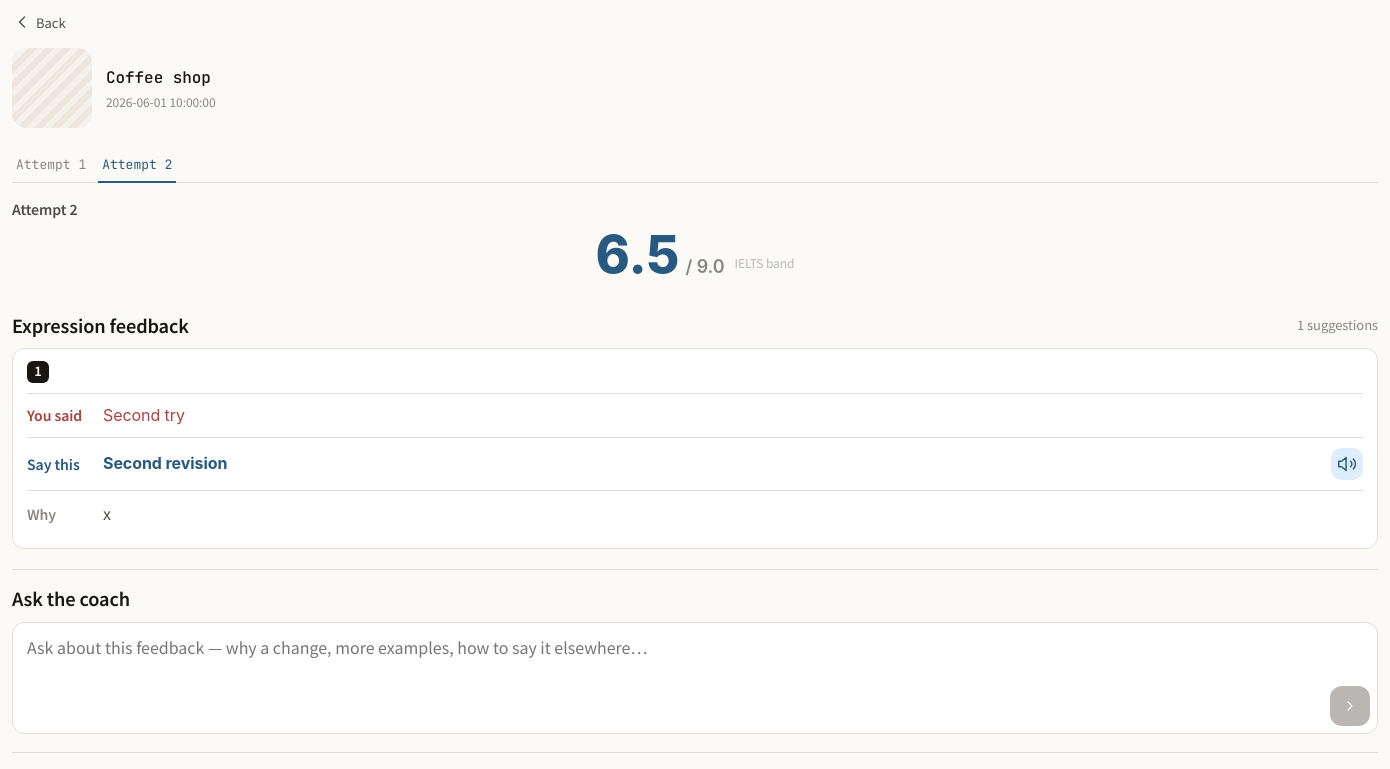
Test: SessionDetailPage › shows attempt tabs and switches between attempts
Expected: the button "Attempt 2" is shown, left=98, top=148, right=176, bottom=183
Expected: the text "Second try" is shown, left=103, top=405, right=185, bottom=425
切到 Attempt 1 → 只显示该轮内容
Click the button "Attempt 1".
click(51, 166)  # box left=12, top=148, right=90, bottom=183
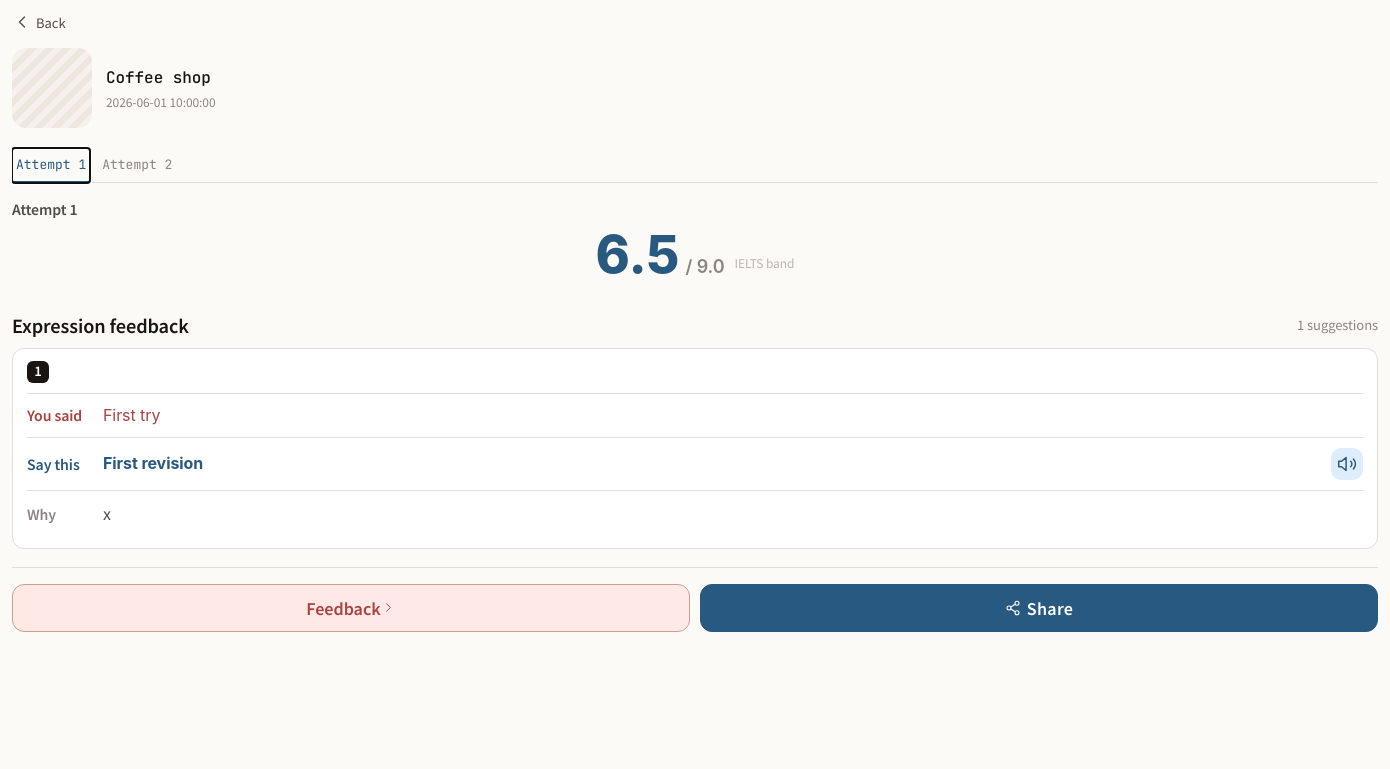
Expected: the text "First try" is shown, left=103, top=405, right=160, bottom=425
Expected: the text "Second try" is gone
